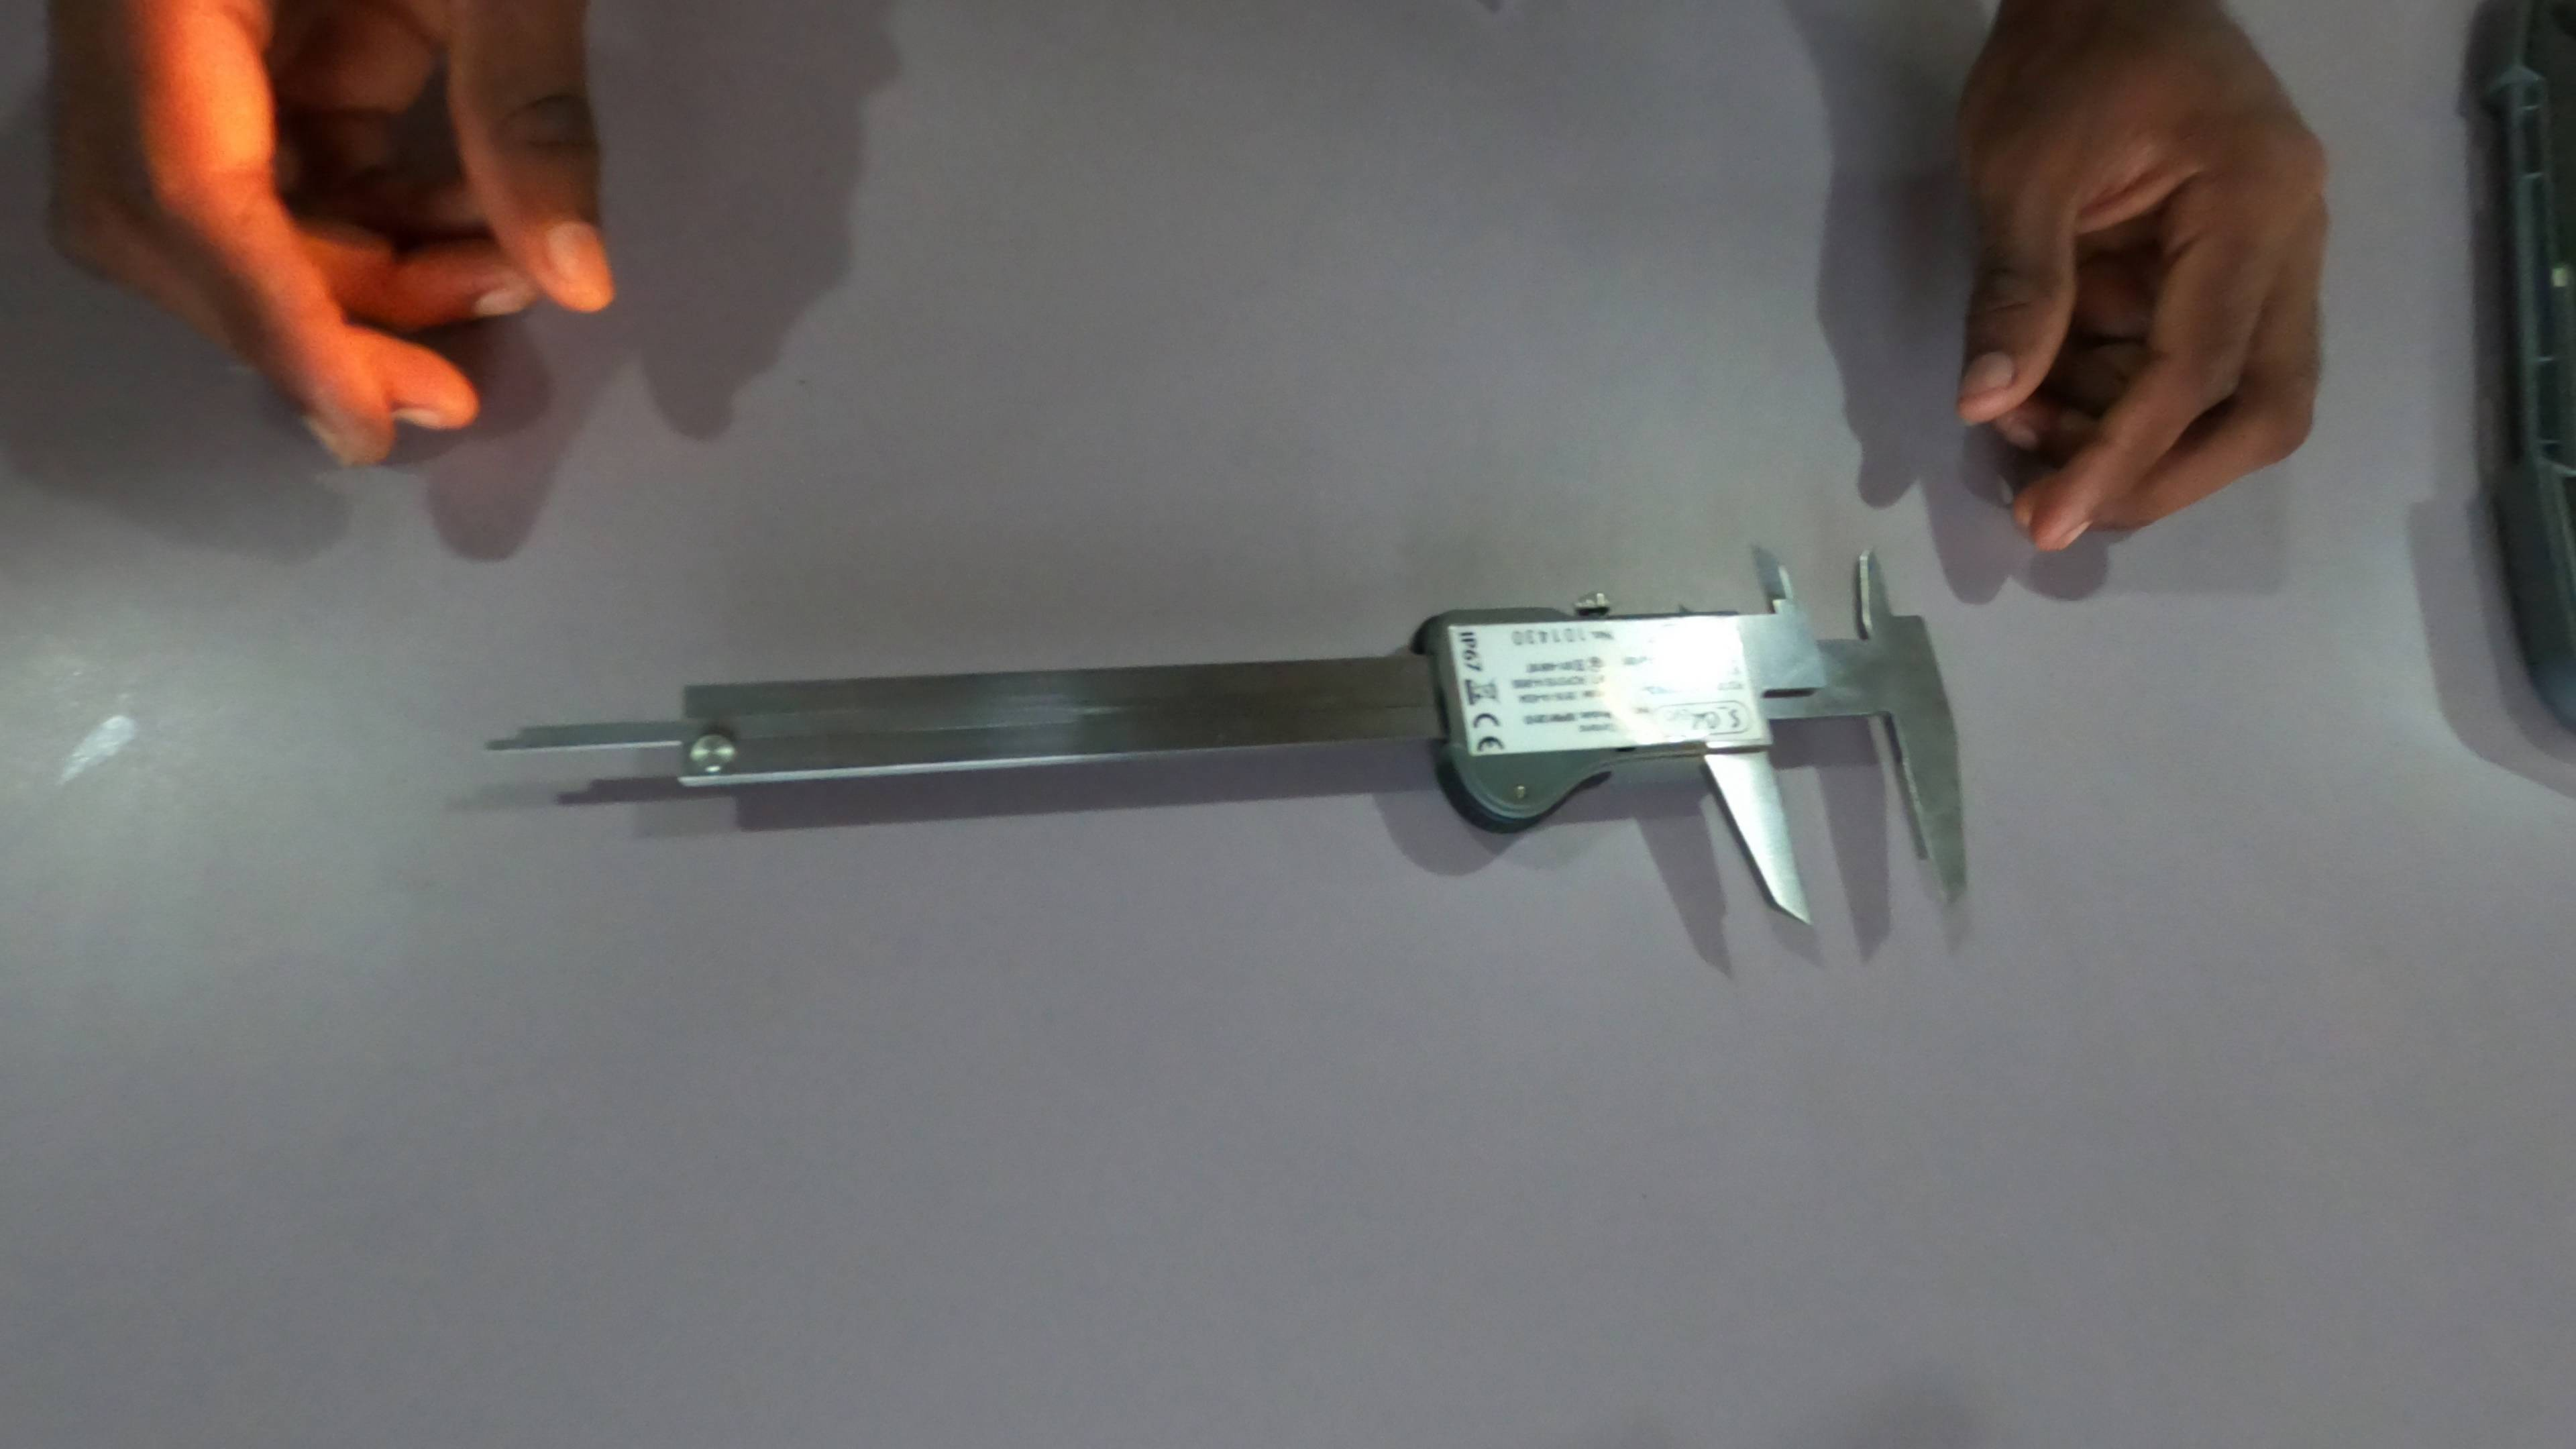vernier_caliper: (476, 541, 1967, 927)
